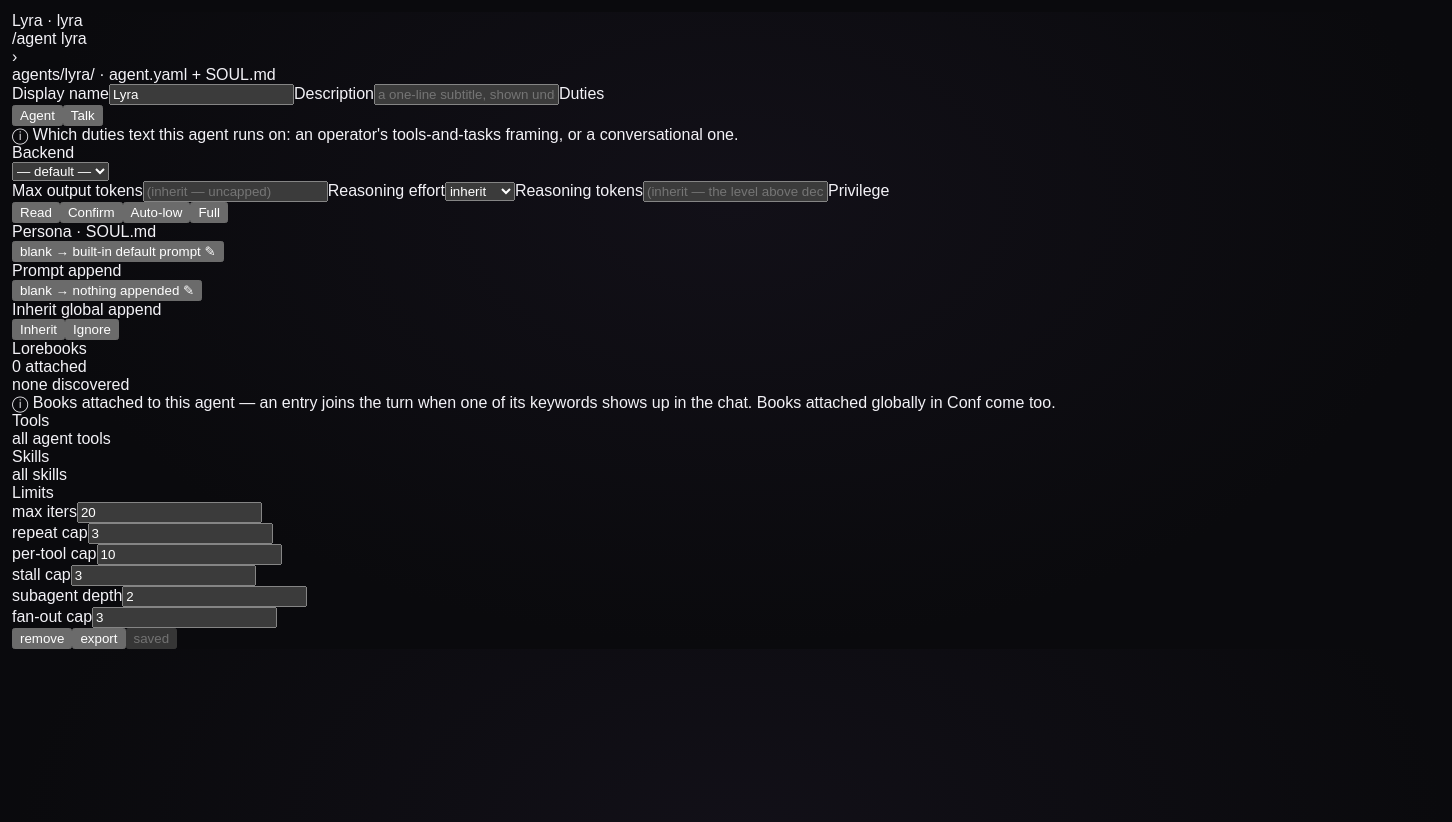
Test case: AgentRow · the card export (§15.3) › an edit made WITH the chooser open drops back to `save first`
This screenshot has width=1452, height=822.
Click the button "export".
click(99, 638)  # box x1=72 y1=628 x2=126 y2=649
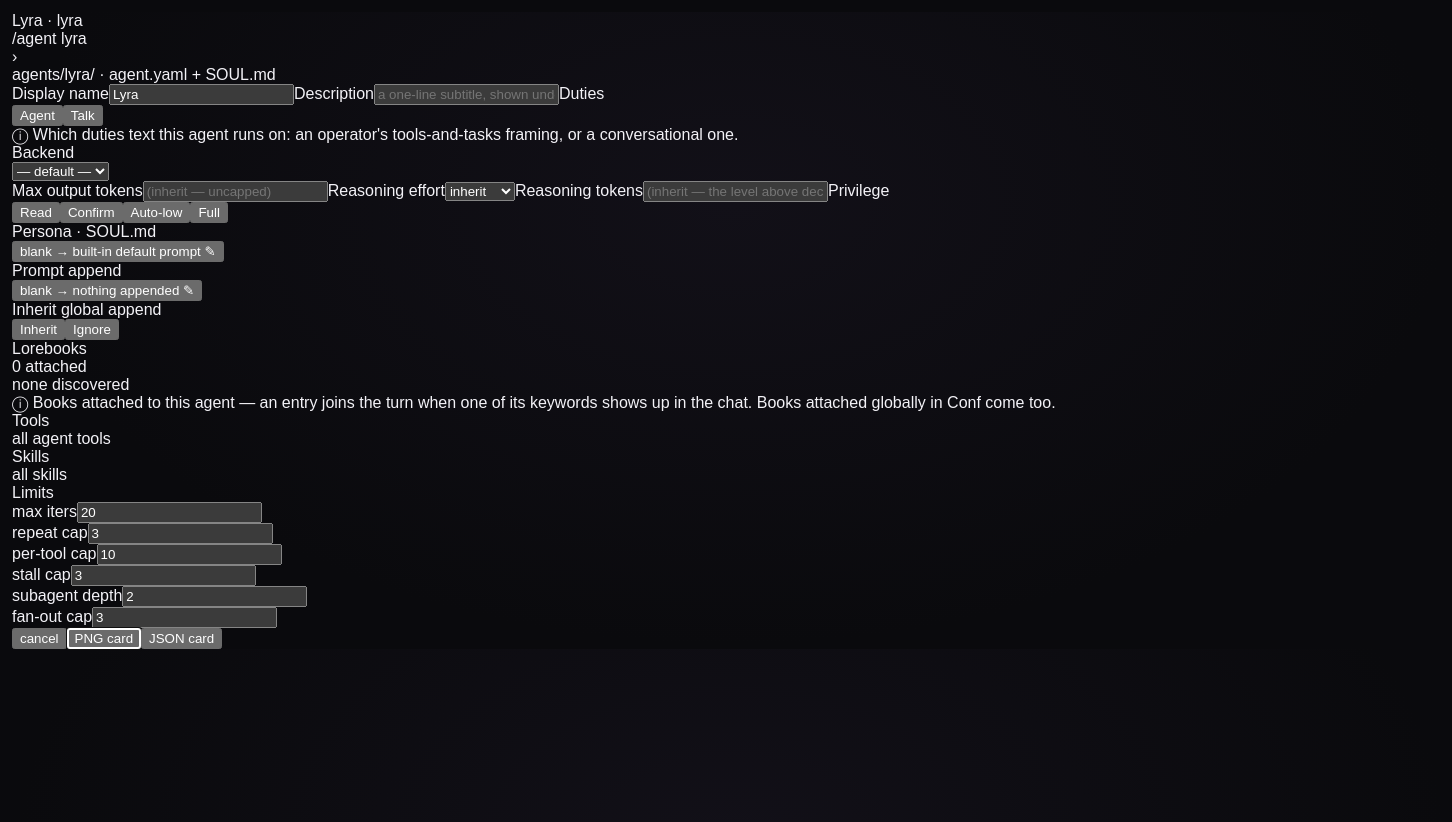
Replace the text in the field named "Display name" with "Lyra II" at (201, 94), box x1=109 y1=84 x2=294 y2=105
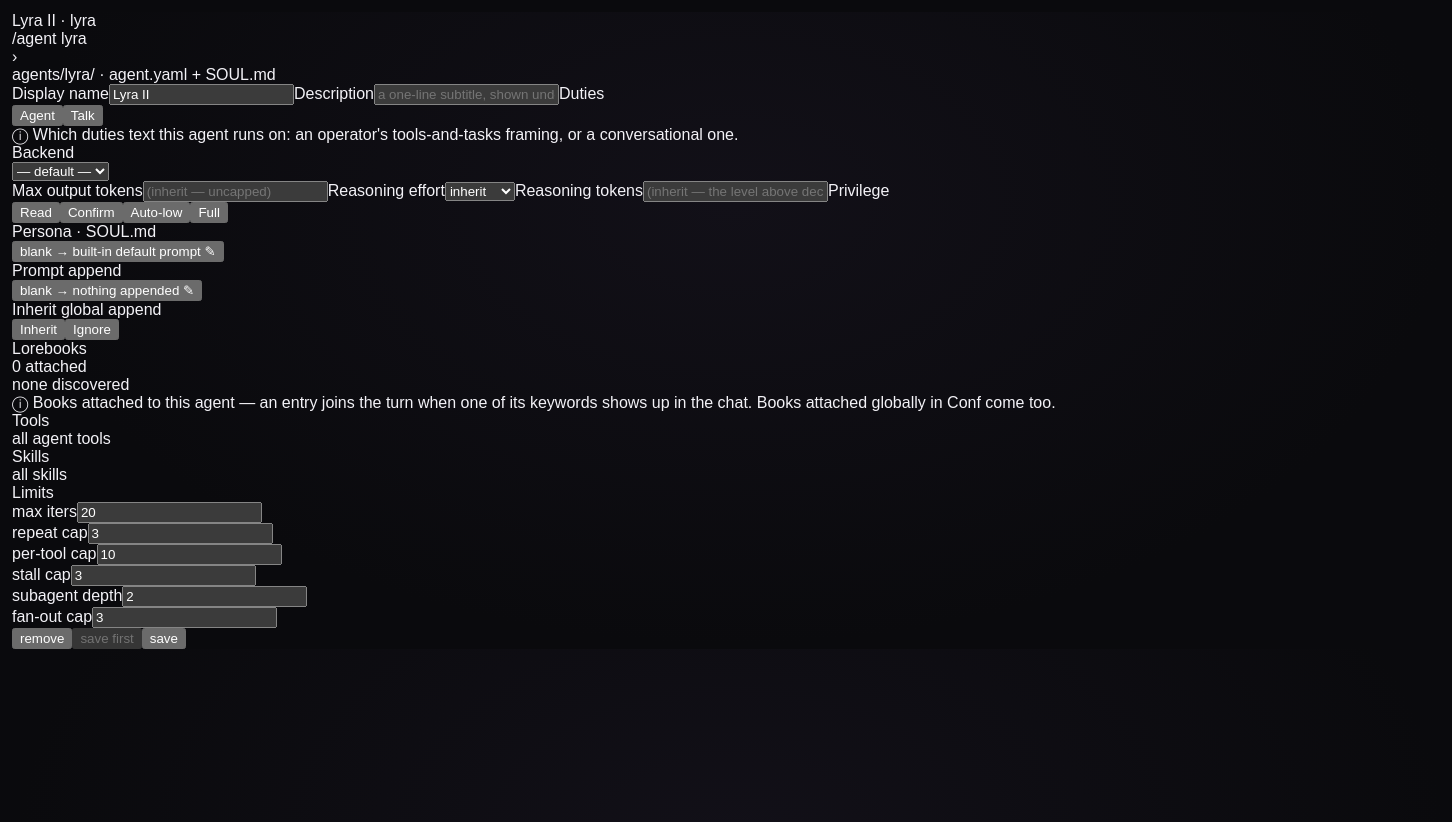
Result: the button "PNG card" is gone
Result: the button "save first" is disabled at x1=72 y1=628 x2=142 y2=649
